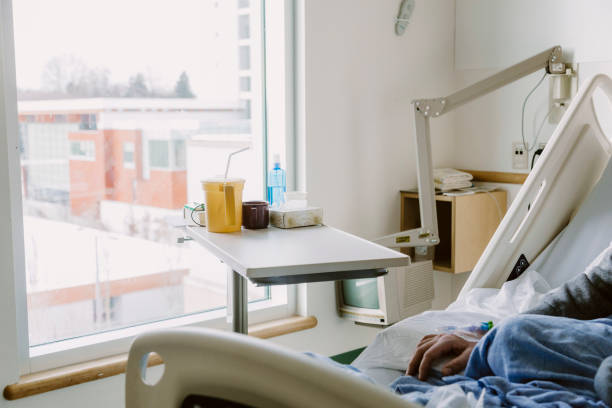bedrail: (450, 74, 612, 296)
bedside_monitor: (336, 276, 387, 325)
bedside_table: (397, 187, 508, 275)
dispenser: (268, 196, 324, 226)
foot_board: (125, 327, 412, 408)
hospital_bed: (125, 74, 612, 408)
overbed_table: (170, 213, 412, 337)
patient: (389, 238, 612, 408)
